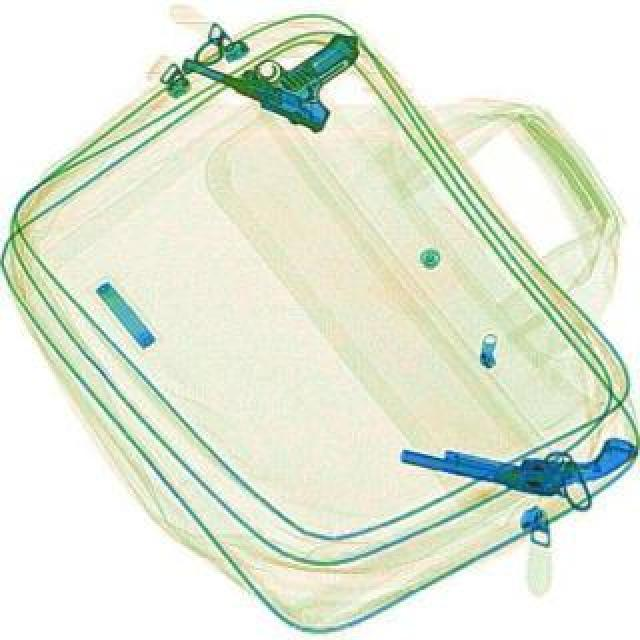gun: (400, 394, 640, 518), (196, 2, 360, 130)
